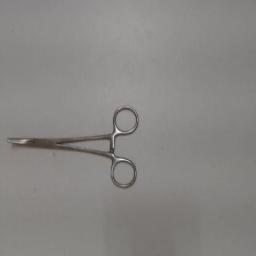Crile Artery Forceps: (4, 100, 142, 192)
